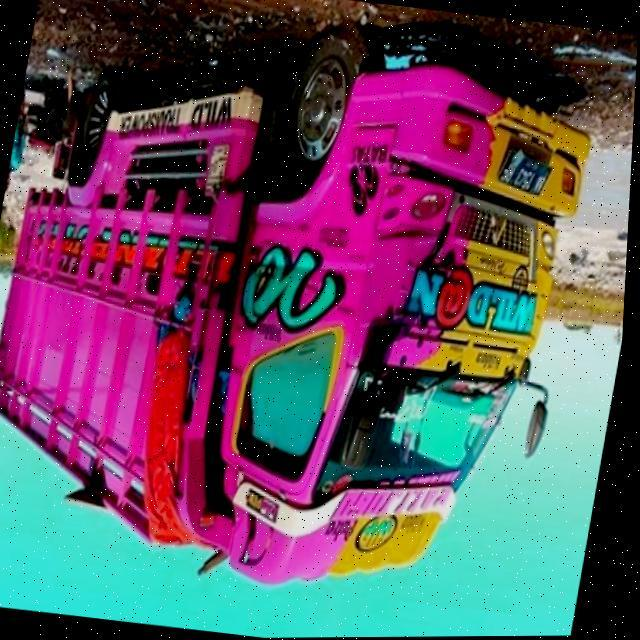truck: (0, 0, 615, 617)
